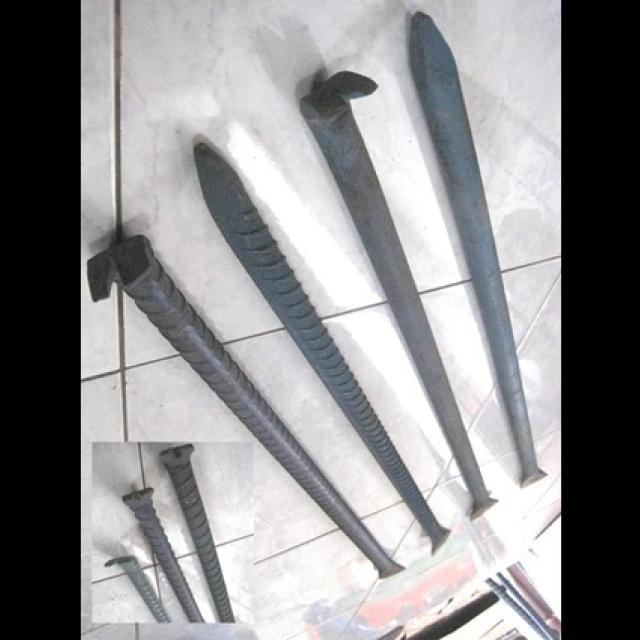Linggis: (306, 74, 500, 524)
